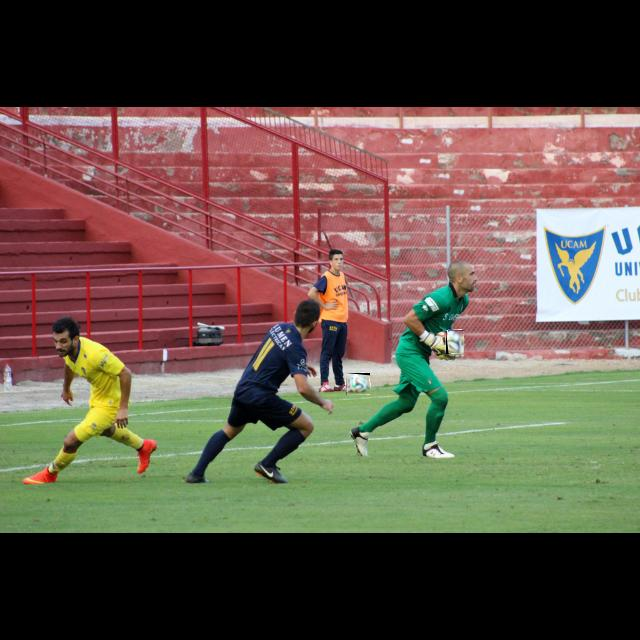Football: (346, 373, 370, 395), (446, 330, 464, 354)
